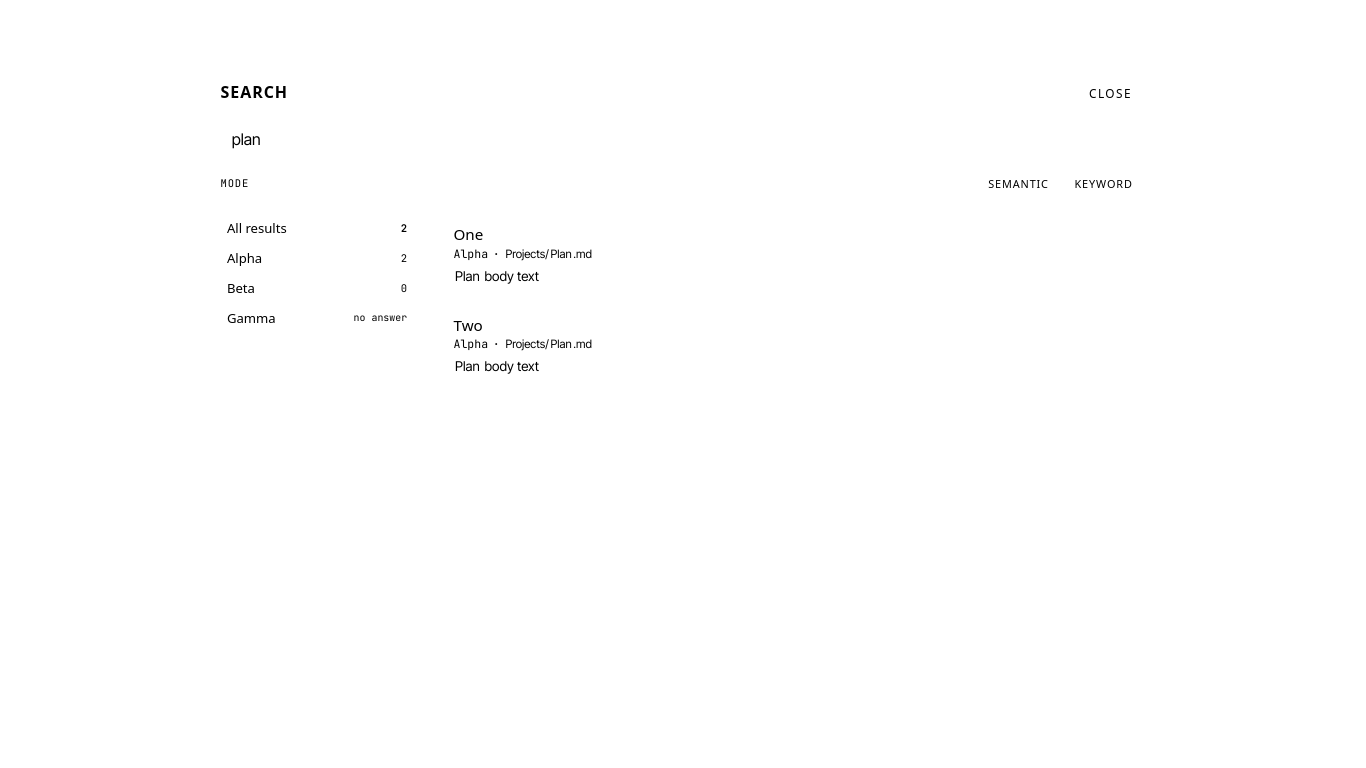
Test case: SearchDialog's own Vault filter — never the browsing scope (#144) › shows a plain message, not the partial error block, when the filter narrows to nothing
This screenshot has width=1366, height=768.
What coordinates should you click on to do the following:
click the button "Beta 0"
I would click on:
 (317, 288)
Its box is [220,274,414,302].
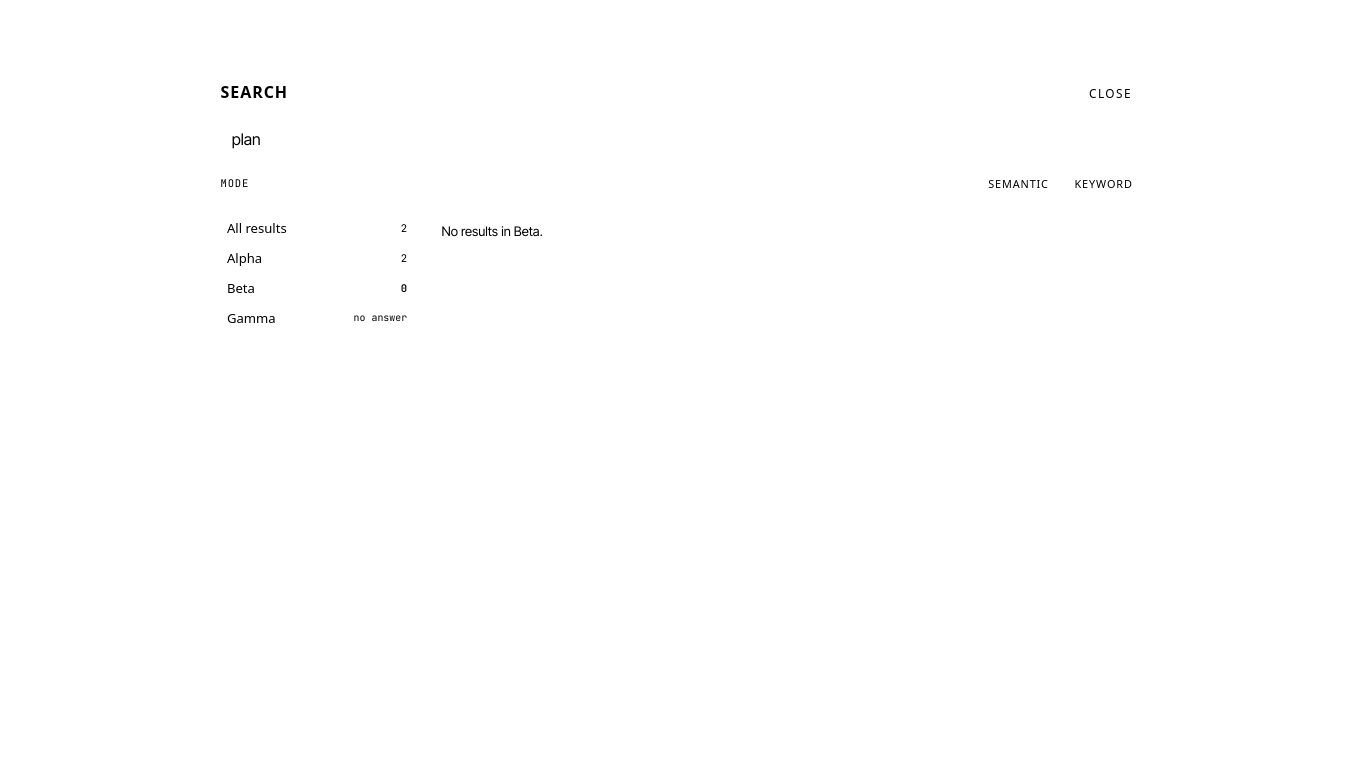
Check: the text "No results in Beta." is shown, box [442,223,543,239]
Check: the button "One" is gone
